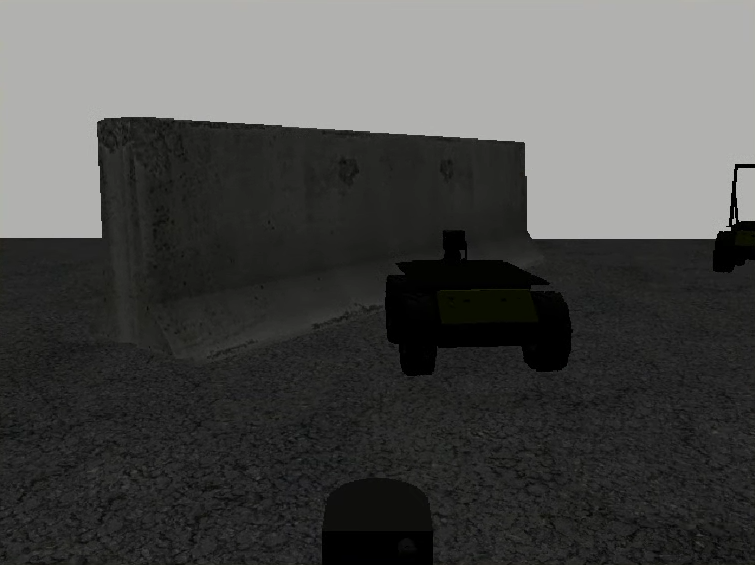husky: (384, 259, 573, 378)
